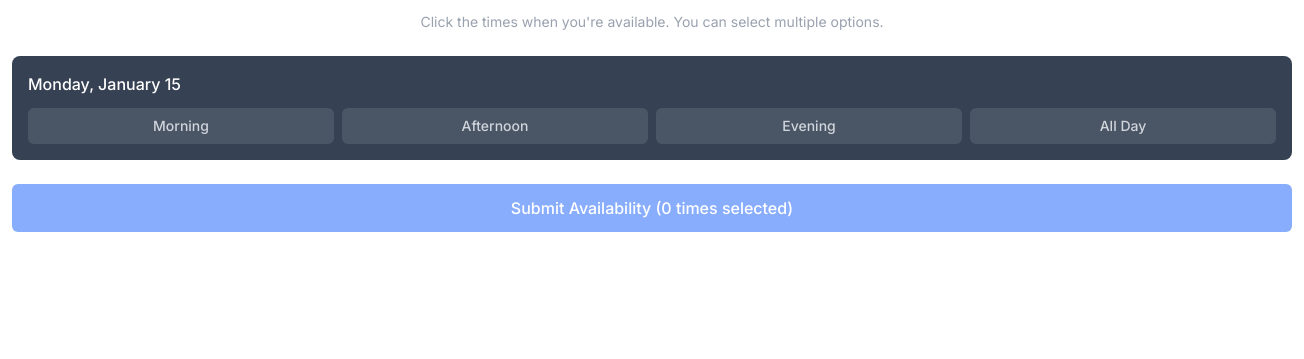
AvailabilityForm › should enable submit button when slots are selected
This screenshot has width=1304, height=359.
Click the button "Morning".
click(181, 126)  # box 28,108 -> 334,144
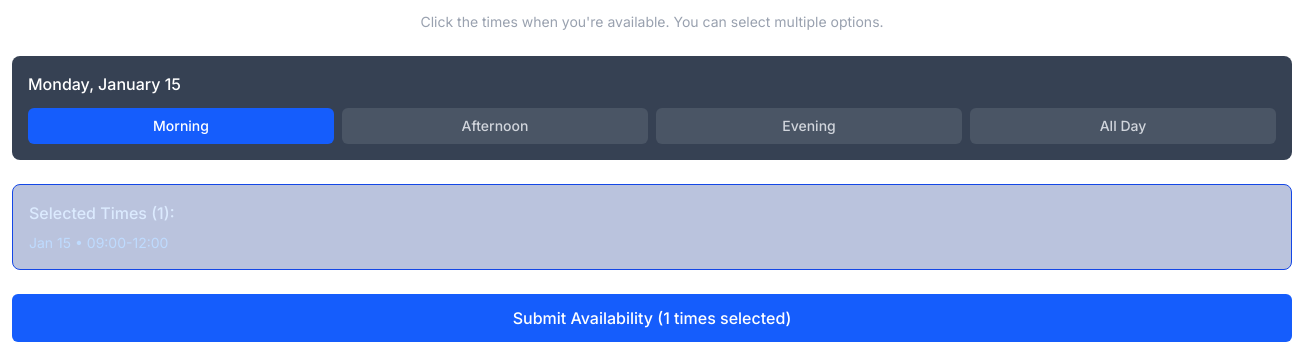
Expected: the button "Submit Availability (1 times selected)" is enabled, 12,294 -> 1292,342
